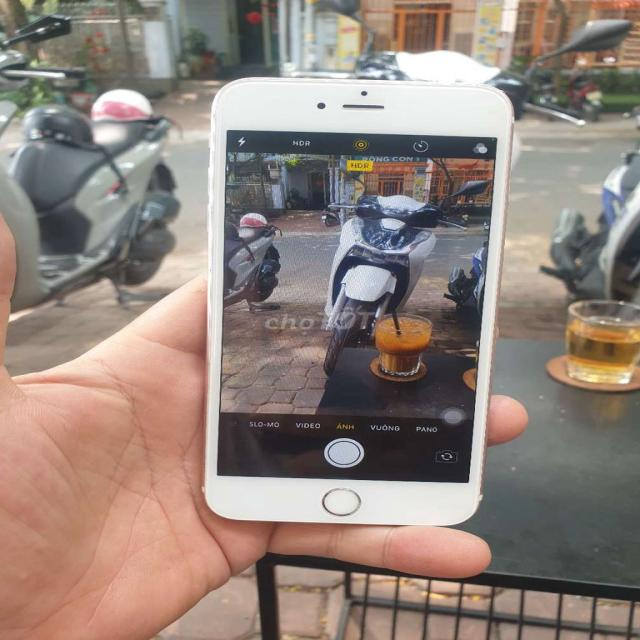gen_6: (198, 64, 530, 534)
